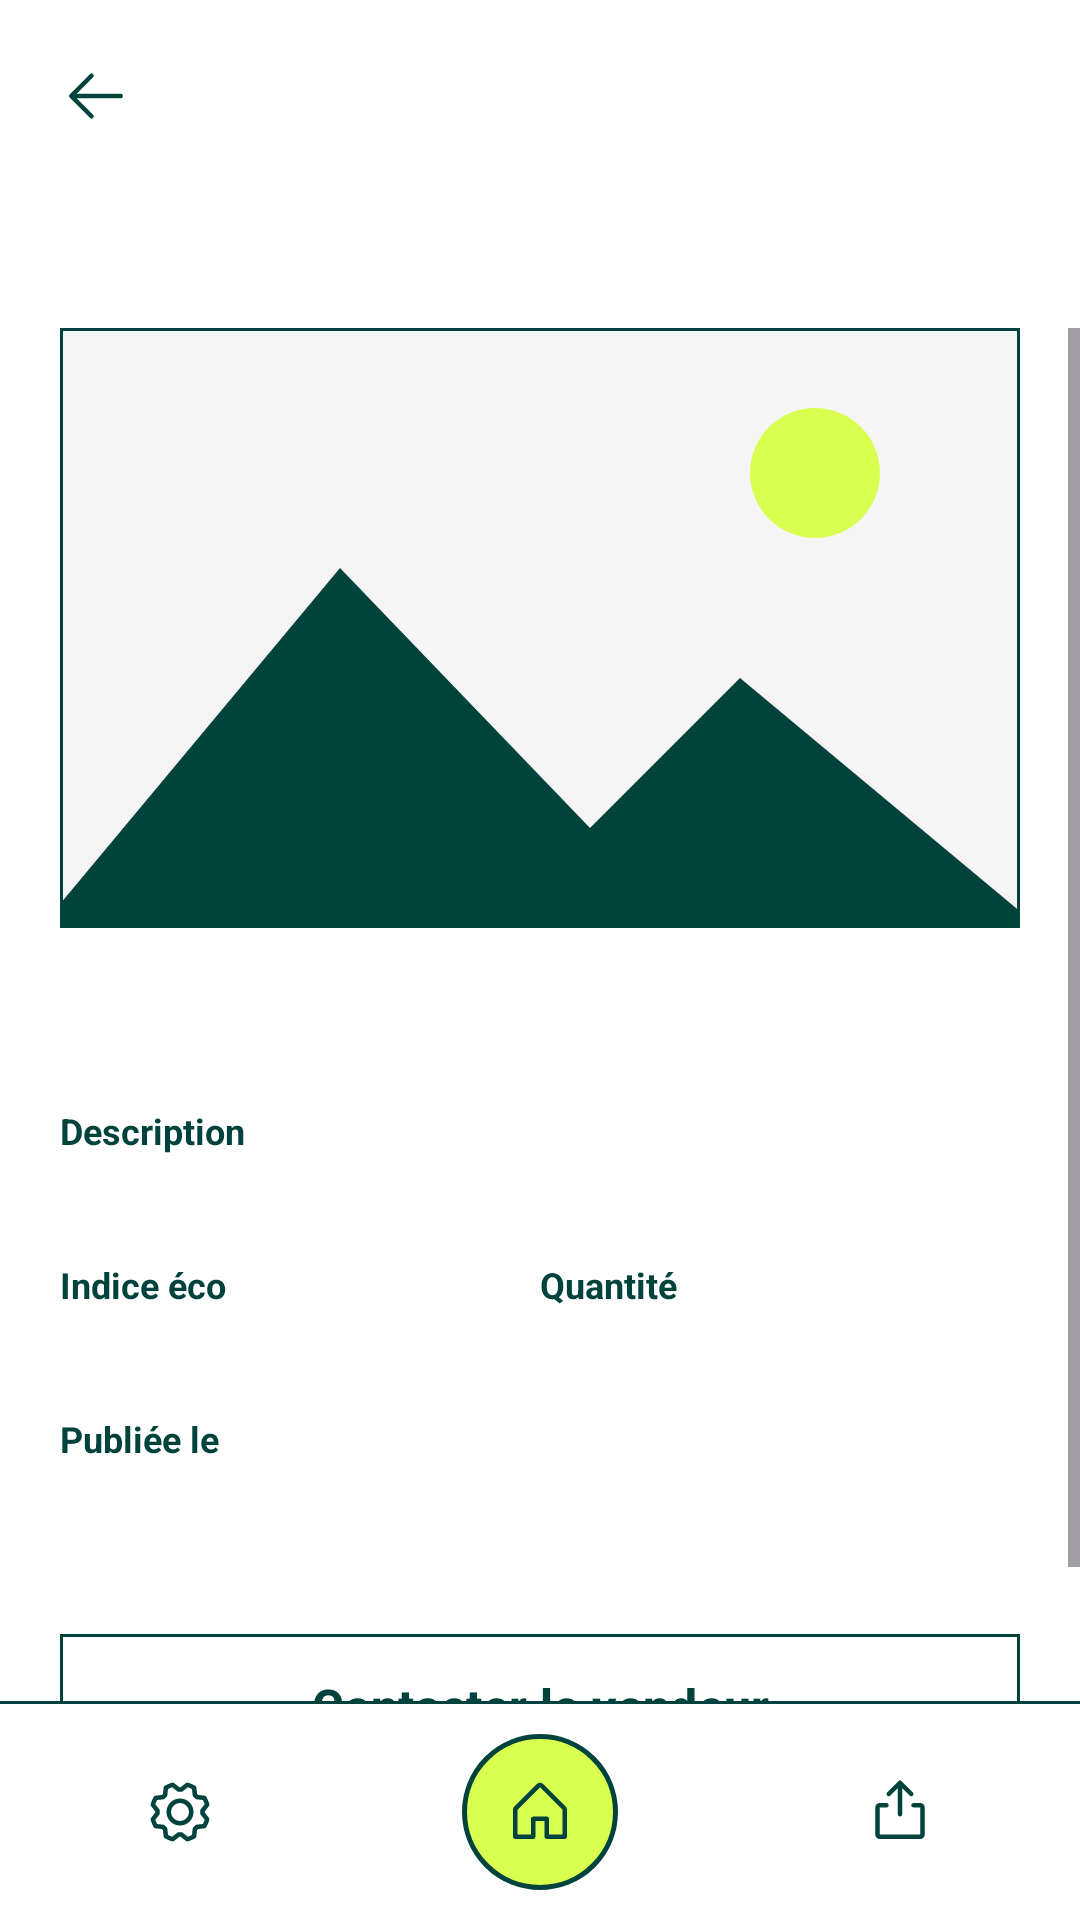

Icon click points for this 1080×1920 phone screenshot, format (x,y):
Accueil: (540,1812)
Paramètres: (180,1812)
Partager: (900,1809)
Retour: (96,96)
